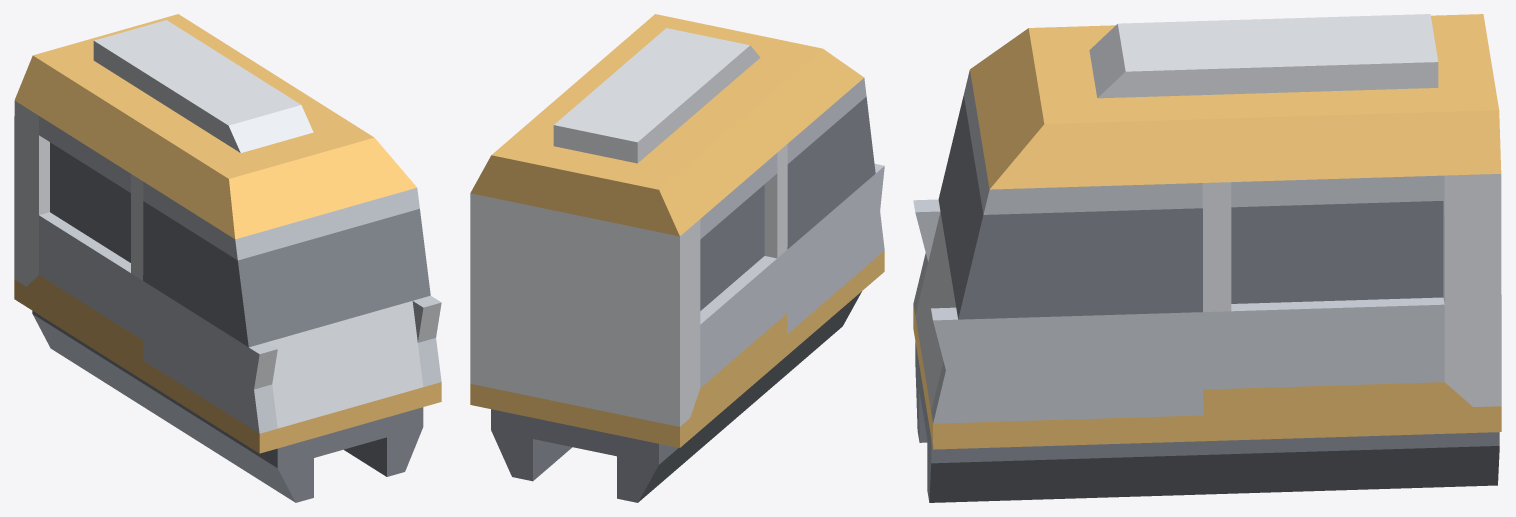
The model's file is monorail7.glb.
3 views of the same model, side by side, from view 1: azimuth 30°, elevation 25°; view 2: azimuth 150°, elevation 25°; view 3: azimuth 270°, elevation 25° (orthographic). The views are drawn at different scales.
Visible parts, largest first — view 1: monorail_trainEnd; view 2: monorail_trainEnd; view 3: monorail_trainEnd.
Part boxes in pixels (x1=…): monorail_trainEnd: x1=14, y1=14, x2=441, y2=502; monorail_trainEnd: x1=470, y1=14, x2=884, y2=502; monorail_trainEnd: x1=913, y1=14, x2=1501, y2=502.
Bounding box in the file's own units: 2.84 × 4.01 × 5.16.
